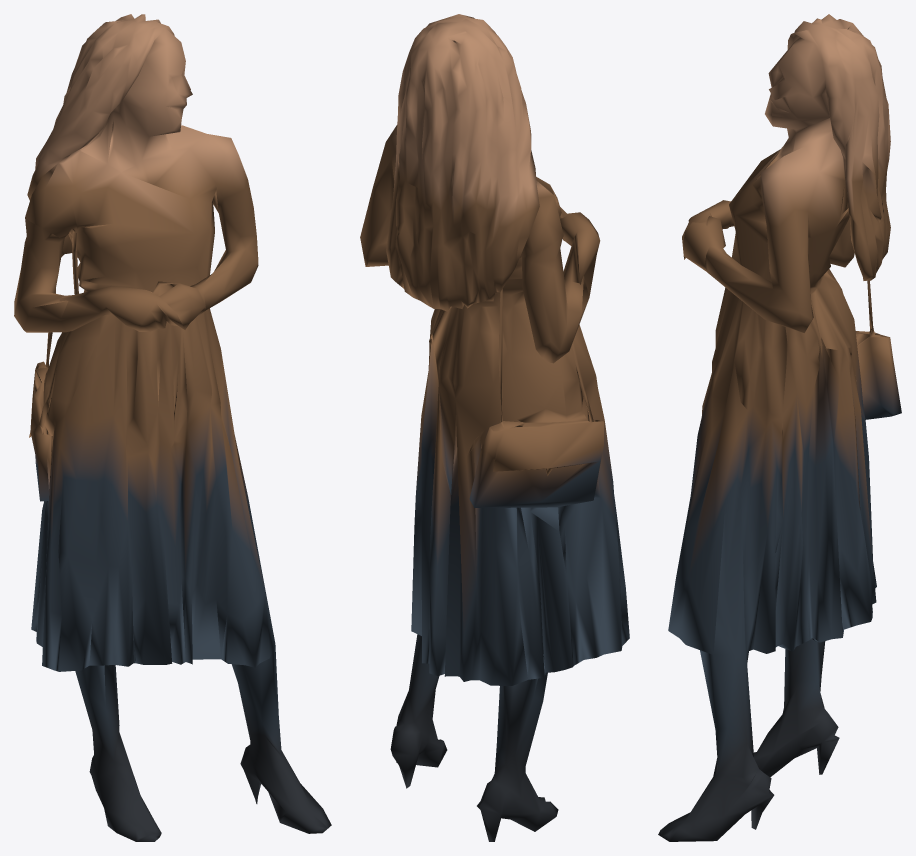
The model's file is people_typ8_stand.glb.
3 views of the same model, side by side, from view 1: azimuth 30°, elevation 25°; view 2: azimuth 150°, elevation 25°; view 3: azimuth 270°, elevation 25° (orthographic). The views are drawn at different scales.
Visible parts, largest first — view 1: people_typ8_stand-mesh; view 2: people_typ8_stand-mesh; view 3: people_typ8_stand-mesh.
Part boxes in pixels (x1,y1,x2,y2): people_typ8_stand-mesh: (14,14,331,841); people_typ8_stand-mesh: (360,14,629,841); people_typ8_stand-mesh: (658,14,901,841).
Size of the model in its own units: 0.5869 by 1.79 by 0.5158.
